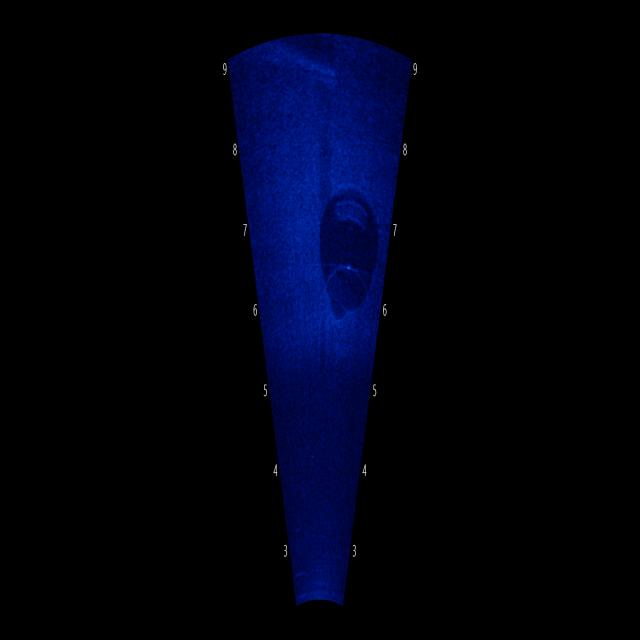circle: (299, 150, 395, 342)
